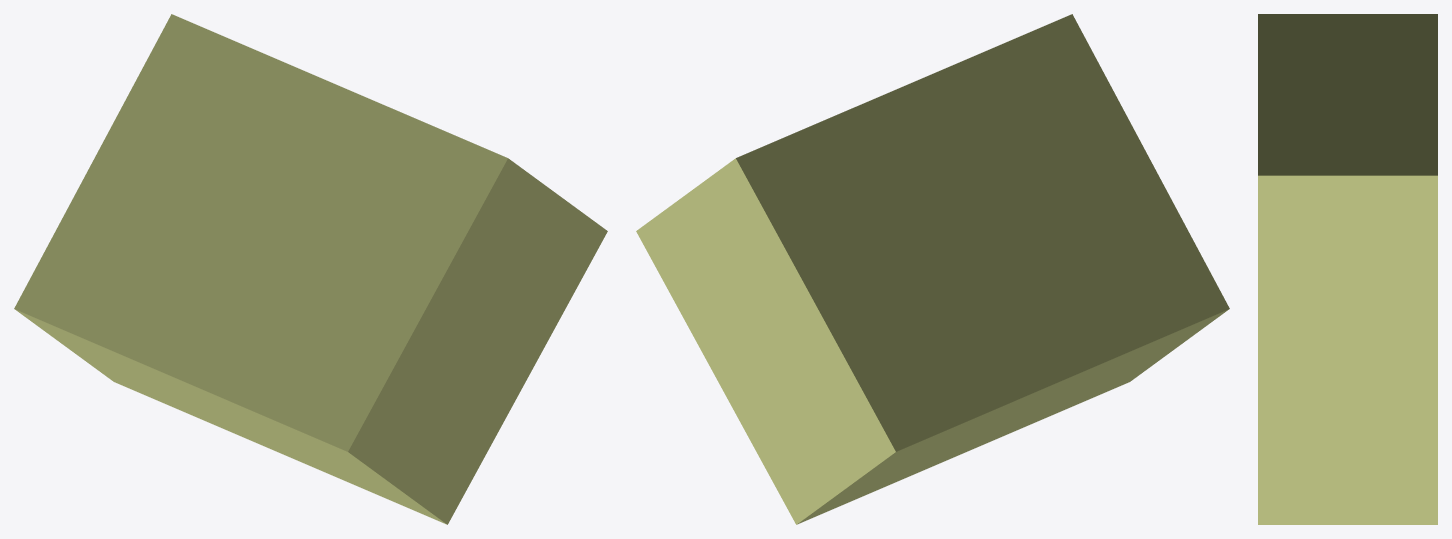
The picture shows the model from 3 angles, left to right: view 1: azimuth 30°, elevation 25°; view 2: azimuth 150°, elevation 25°; view 3: azimuth 270°, elevation 25°; orthographic projection. The views are drawn at different scales.
Parts seen in each view (by area): view 1: 0_1_0_0_0_1_0_3_1_2; view 2: 0_1_0_0_0_1_0_3_1_2; view 3: 0_1_0_0_0_1_0_3_1_2.
Boxes of the visible parts, x1,y1,x2,y2 form: 0_1_0_0_0_1_0_3_1_2: [14, 14, 607, 524]; 0_1_0_0_0_1_0_3_1_2: [636, 14, 1229, 524]; 0_1_0_0_0_1_0_3_1_2: [1258, 14, 1437, 524].
Size of the model in its own units: 17.17 by 15.97 by 6.
